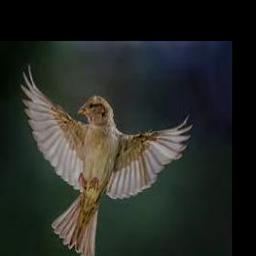Sparrow: (20, 64, 193, 256)
